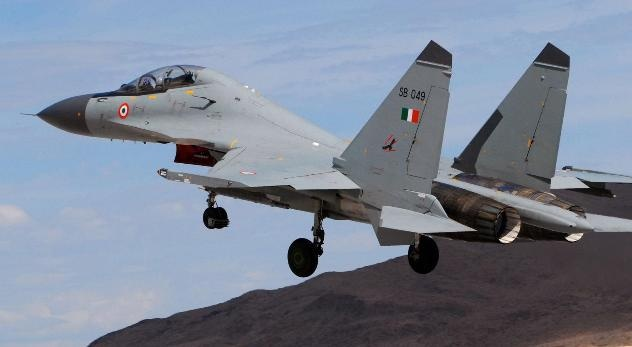airplane: (16, 21, 626, 277)
